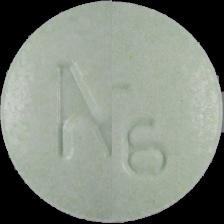51079-984: (0, 0, 224, 224)
